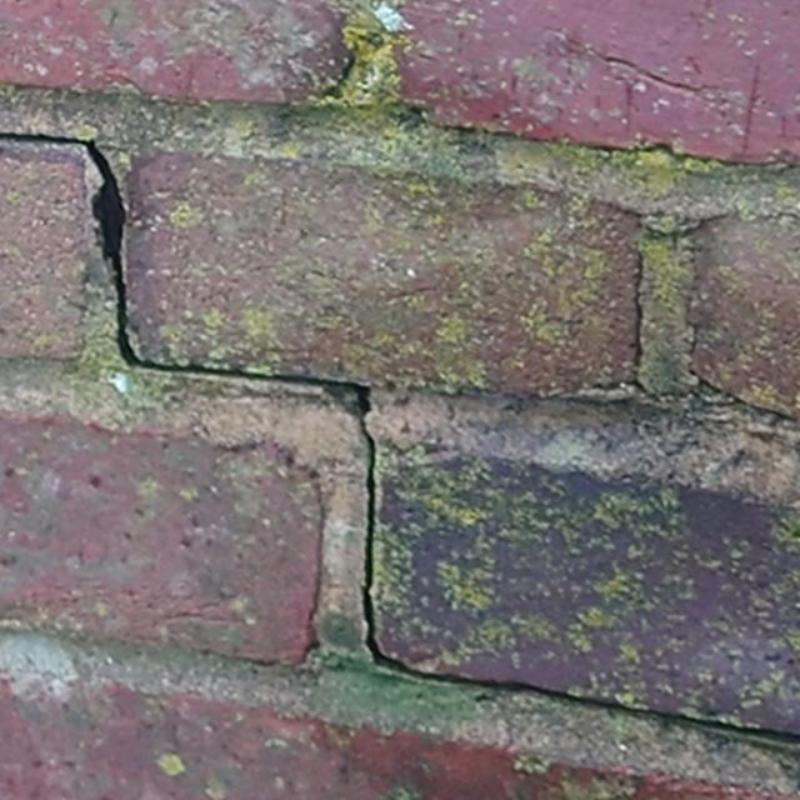pothole: (0, 134, 799, 753)
